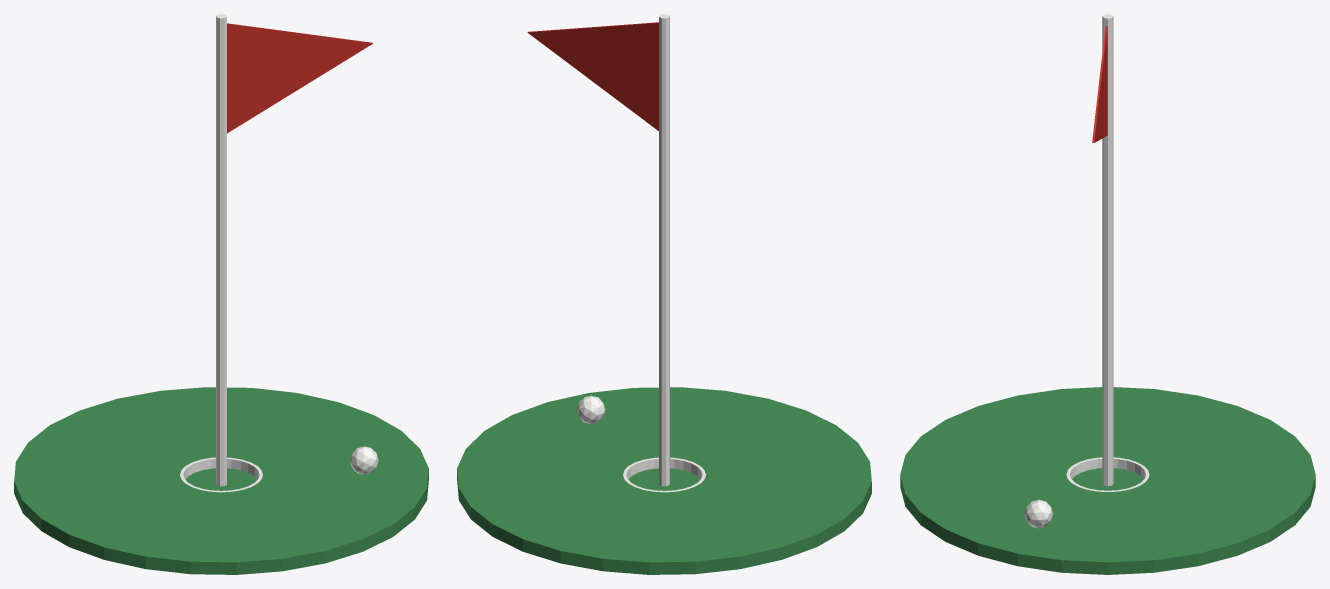
The model's file is bandeira_buraco.glb.
3 views of the same model, side by side, from view 1: azimuth 30°, elevation 25°; view 2: azimuth 150°, elevation 25°; view 3: azimuth 270°, elevation 25° (orthographic).
Visible parts, largest first — view 1: bandeira_buraco_verde_golfe, bandeira_buraco_vermelho_flag, bandeira_buraco_plastico_branco; view 2: bandeira_buraco_verde_golfe, bandeira_buraco_vermelho_flag, bandeira_buraco_plastico_branco; view 3: bandeira_buraco_verde_golfe, bandeira_buraco_plastico_branco, bandeira_buraco_vermelho_flag.
Part boxes in pixels (x1,y1,x2,y2): bandeira_buraco_verde_golfe: (14,387,428,574); bandeira_buraco_vermelho_flag: (227,23,372,133); bandeira_buraco_plastico_branco: (180,14,378,492); bandeira_buraco_verde_golfe: (457,387,871,574); bandeira_buraco_vermelho_flag: (527,22,658,130); bandeira_buraco_plastico_branco: (576,14,705,492); bandeira_buraco_verde_golfe: (900,387,1315,574); bandeira_buraco_plastico_branco: (1024,14,1149,528); bandeira_buraco_vermelho_flag: (1092,26,1107,142).
Size of the model in its own units: 0.6 by 0.75 by 0.6.
